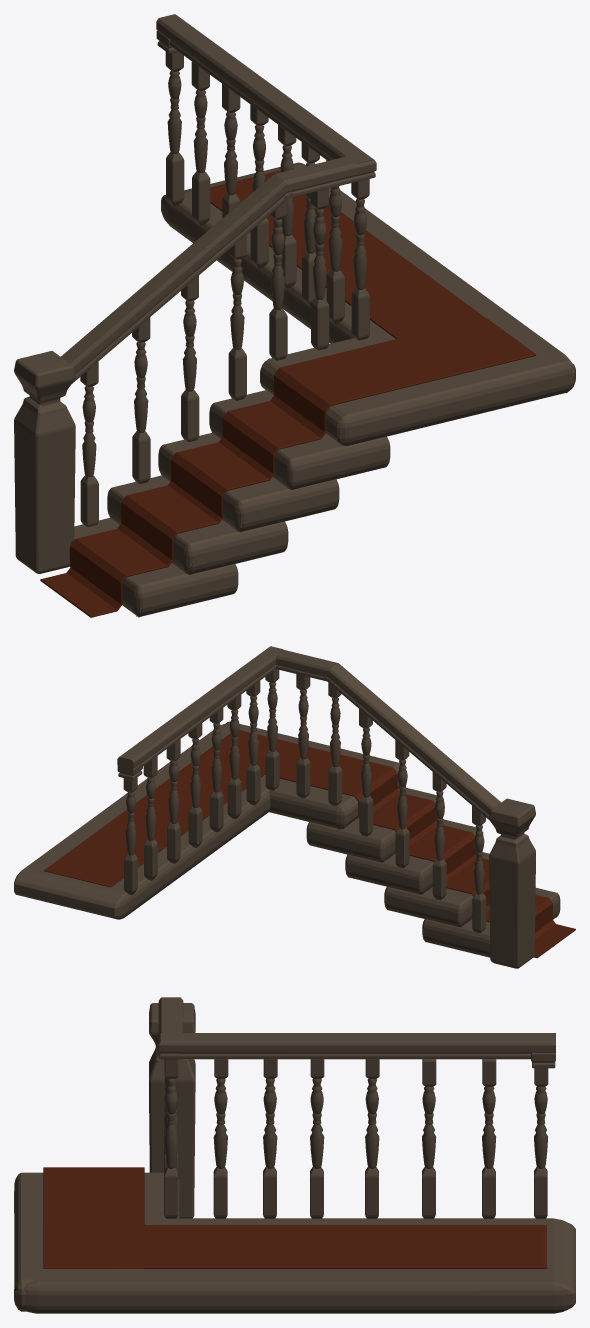
The model's file is stairs.fbx.
3 views of the same model, one above another, from view 1: azimuth 30°, elevation 25°; view 2: azimuth 150°, elevation 25°; view 3: azimuth 270°, elevation 25° (orthographic). The views are drawn at different scales.
Visible parts, largest first — view 1: pCube40, pCube27, pCube69, pCube66, pCube26, pCube39, pCube21, pCube28, pCube30, pCube29, pCube31, pCube38 (+32 smaller); view 2: pCube26, pCube40, pCube69, pCube39, pCube21, pCube27, pCube66, pCube28, pCube29, pCube30, pCube31, pCube38 (+35 smaller); view 3: pCube26, pCube69, pCube21, pCube66, pCube27, pCube40, pCube38, pSphere6, pSphere4, pSphere3, pSphere5, pSphere2 (+14 smaller).
Part boxes in pixels (x1=…): pCube40: x1=14, y1=351, x2=75, y2=573; pCube27: x1=260, y1=308, x2=575, y2=446; pCube69: x1=210, y1=170, x2=498, y2=348; pCube66: x1=280, y1=318, x2=536, y2=405; pCube26: x1=161, y1=162, x2=574, y2=384; pCube39: x1=61, y1=174, x2=292, y2=383; pCube21: x1=156, y1=14, x2=375, y2=172; pCube28: x1=209, y1=390, x2=390, y2=489; pCube30: x1=107, y1=475, x2=288, y2=574; pCube29: x1=158, y1=433, x2=339, y2=532; pCube31: x1=69, y1=518, x2=238, y2=617; pCube38: x1=275, y1=152, x2=373, y2=198; pCube26: x1=14, y1=724, x2=280, y2=919; pCube40: x1=489, y1=798, x2=535, y2=968; pCube69: x1=44, y1=750, x2=264, y2=887; pCube39: x1=324, y1=663, x2=500, y2=819; pCube21: x1=117, y1=646, x2=282, y2=773; pCube27: x1=177, y1=721, x2=399, y2=829; pCube66: x1=200, y1=730, x2=392, y2=796; pCube28: x1=306, y1=788, x2=444, y2=862; pCube29: x1=345, y1=819, x2=483, y2=894; pCube30: x1=384, y1=852, x2=489, y2=927; pCube31: x1=422, y1=888, x2=560, y2=957; pCube38: x1=264, y1=646, x2=337, y2=681; pCube26: x1=15, y1=1218, x2=575, y2=1313; pCube69: x1=116, y1=1224, x2=548, y2=1268; pCube21: x1=160, y1=1033, x2=555, y2=1059; pCube66: x1=43, y1=1167, x2=144, y2=1268; pCube27: x1=14, y1=1172, x2=180, y2=1311; pCube40: x1=149, y1=1003, x2=195, y2=1218; pCube38: x1=158, y1=997, x2=183, y2=1054; pSphere6: x1=164, y1=1079, x2=178, y2=1168; pSphere4: x1=263, y1=1078, x2=277, y2=1168; pSphere3: x1=310, y1=1078, x2=324, y2=1168; pSphere5: x1=213, y1=1079, x2=227, y2=1168; pSphere2: x1=365, y1=1079, x2=379, y2=1168.
Size of the model in its own units: 23.03 by 15.38 by 23.61.
